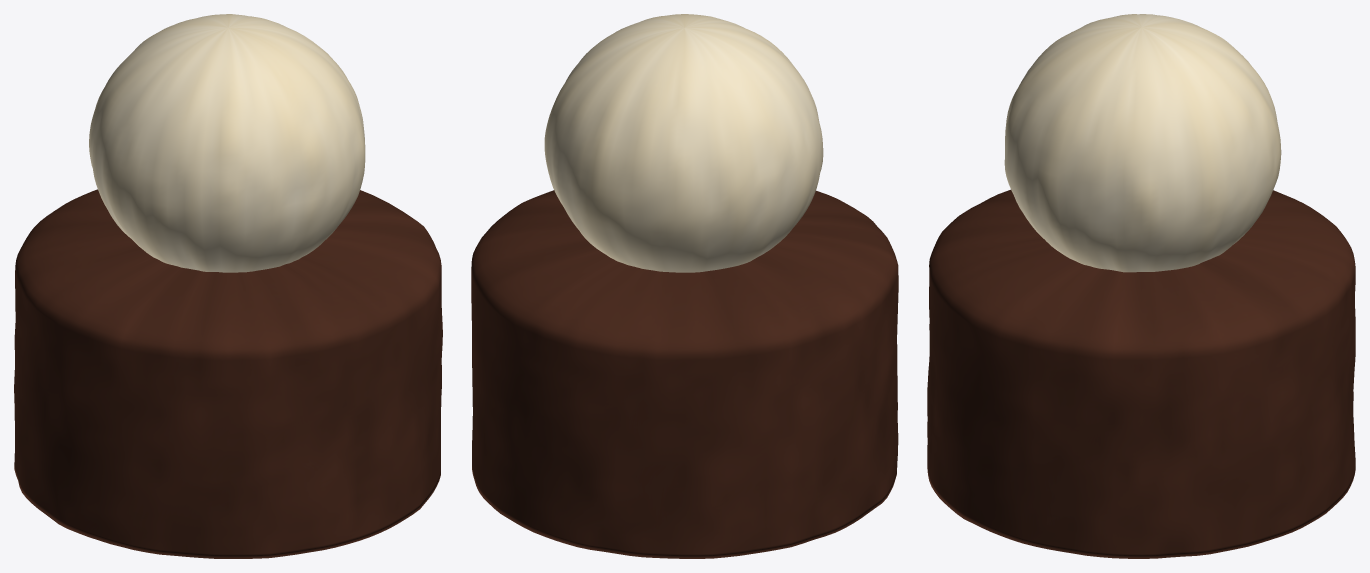
Rendered from sobremesa-demonstrativa.glb.
The picture shows the model from 3 angles, left to right: view 1: azimuth 30°, elevation 25°; view 2: azimuth 150°, elevation 25°; view 3: azimuth 270°, elevation 25°; orthographic projection.
Parts seen in each view (by area): view 1: sobremesa-demonstrativa; view 2: sobremesa-demonstrativa; view 3: sobremesa-demonstrativa.
Boxes of the visible parts, x1,y1,x2,y2 form: sobremesa-demonstrativa: [14, 14, 442, 558]; sobremesa-demonstrativa: [471, 14, 898, 558]; sobremesa-demonstrativa: [927, 14, 1355, 558].
Bounding box in the file's own units: 0.0806 × 0.0918 × 0.0808.
